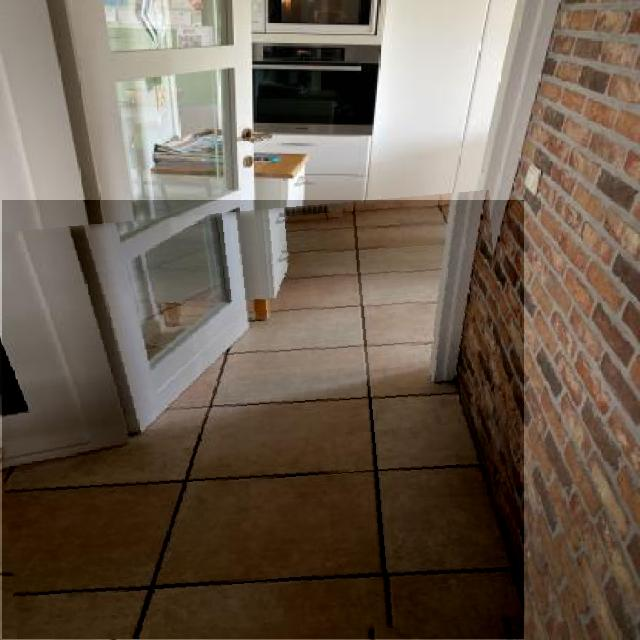floor: (3, 200, 524, 640)
